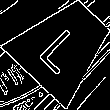L_NE: (35, 18, 92, 75)
